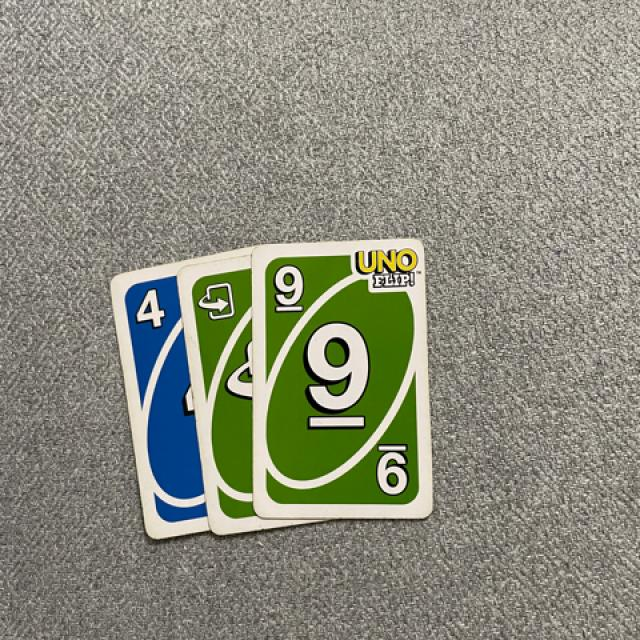lblue-4: (123, 280, 174, 344)
lgreen-9: (262, 256, 312, 320)
